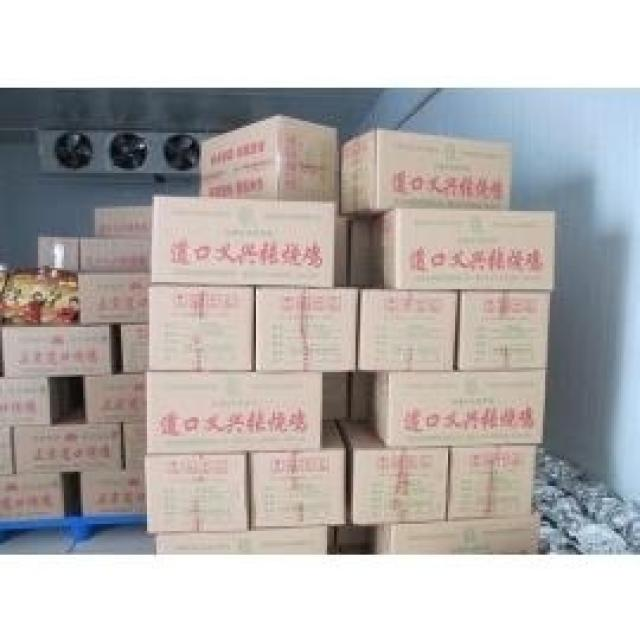box: (153, 197, 334, 285), (343, 128, 509, 221), (376, 208, 554, 292), (146, 370, 324, 453), (200, 114, 341, 213), (371, 369, 544, 446), (340, 414, 451, 524), (250, 415, 350, 528), (145, 282, 256, 369), (355, 283, 460, 369), (254, 283, 358, 368), (144, 453, 251, 534), (13, 405, 124, 472), (455, 290, 552, 366), (374, 513, 537, 553), (449, 444, 537, 516), (2, 322, 116, 376), (155, 527, 330, 554), (0, 375, 84, 422), (80, 270, 148, 322), (78, 372, 146, 424), (80, 467, 146, 514), (1, 469, 64, 517), (80, 236, 151, 272), (92, 204, 151, 241), (34, 234, 81, 272), (351, 213, 375, 284), (331, 214, 352, 283), (118, 323, 148, 371), (325, 368, 353, 417), (328, 527, 375, 552), (122, 421, 148, 465), (353, 367, 374, 417), (0, 423, 14, 475)
